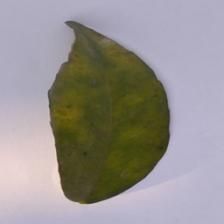greening: (39, 14, 176, 208)
